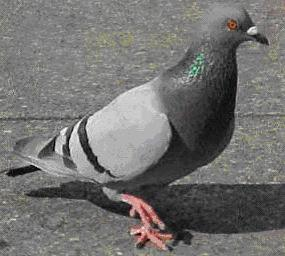Flying Rat: (27, 3, 266, 245)
